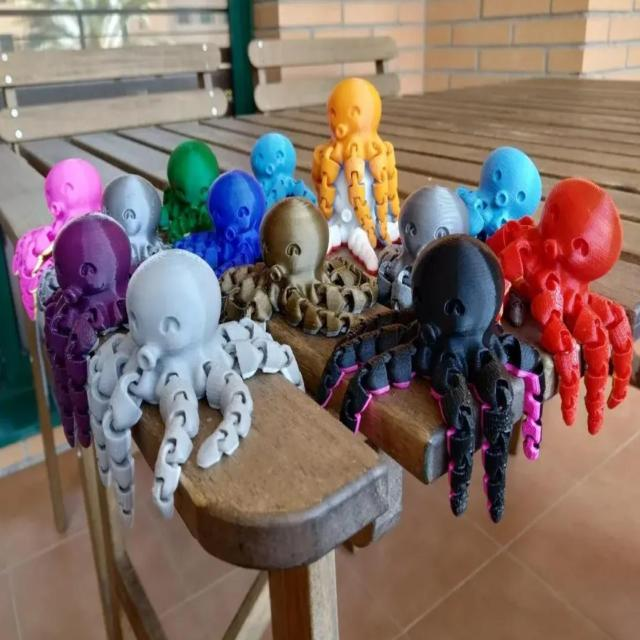Without deffect: (19, 73, 636, 540)
